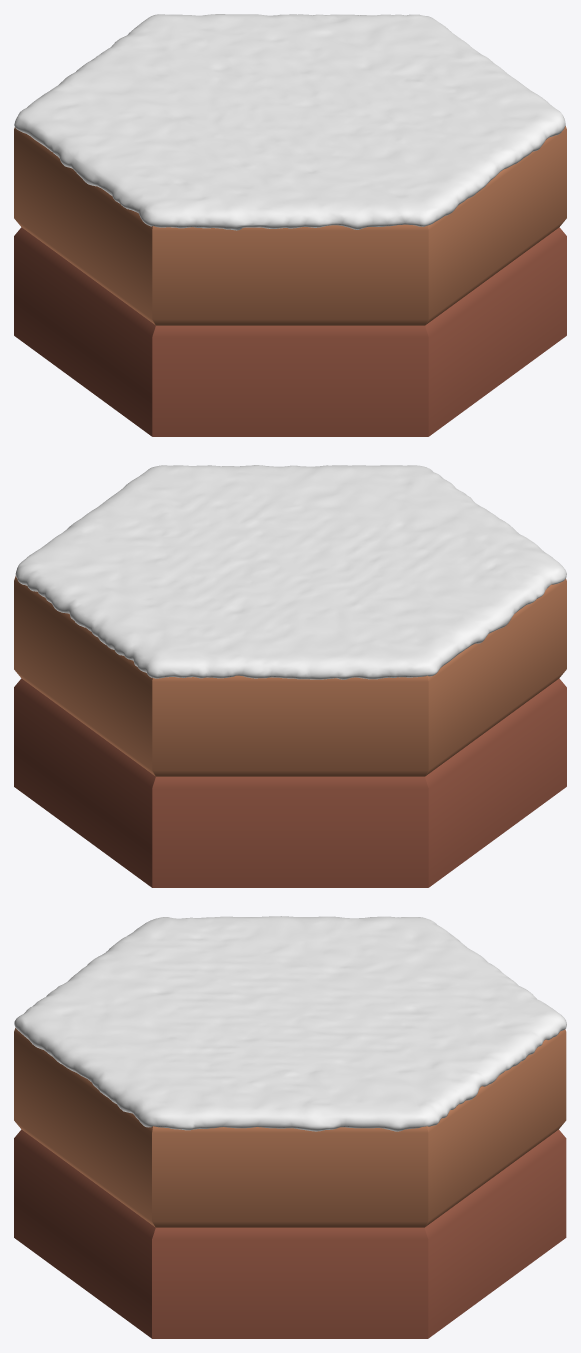
Rendered from snow_hex_rock_detail.fbx.
The picture shows the model from 3 angles, top to bottom: view 1: azimuth 30°, elevation 25°; view 2: azimuth 150°, elevation 25°; view 3: azimuth 270°, elevation 25°; orthographic projection.
Visible parts, largest first — view 1: SnowBall.001, hex_rock_detail, hex_rock_detail.001; view 2: SnowBall.001, hex_rock_detail, hex_rock_detail.001; view 3: SnowBall.001, hex_rock_detail, hex_rock_detail.001.
Part boxes in pixels (box(x1,y1,x2,y2)): SnowBall.001: box(14, 14, 565, 230); hex_rock_detail: box(14, 227, 566, 436); hex_rock_detail.001: box(14, 126, 566, 325); SnowBall.001: box(15, 465, 566, 679); hex_rock_detail: box(14, 678, 566, 887); hex_rock_detail.001: box(14, 576, 566, 776); SnowBall.001: box(14, 916, 566, 1131); hex_rock_detail: box(14, 1129, 566, 1338); hex_rock_detail.001: box(14, 1028, 566, 1227).
Bounding box in the file's own units: 204 × 104 × 231.
